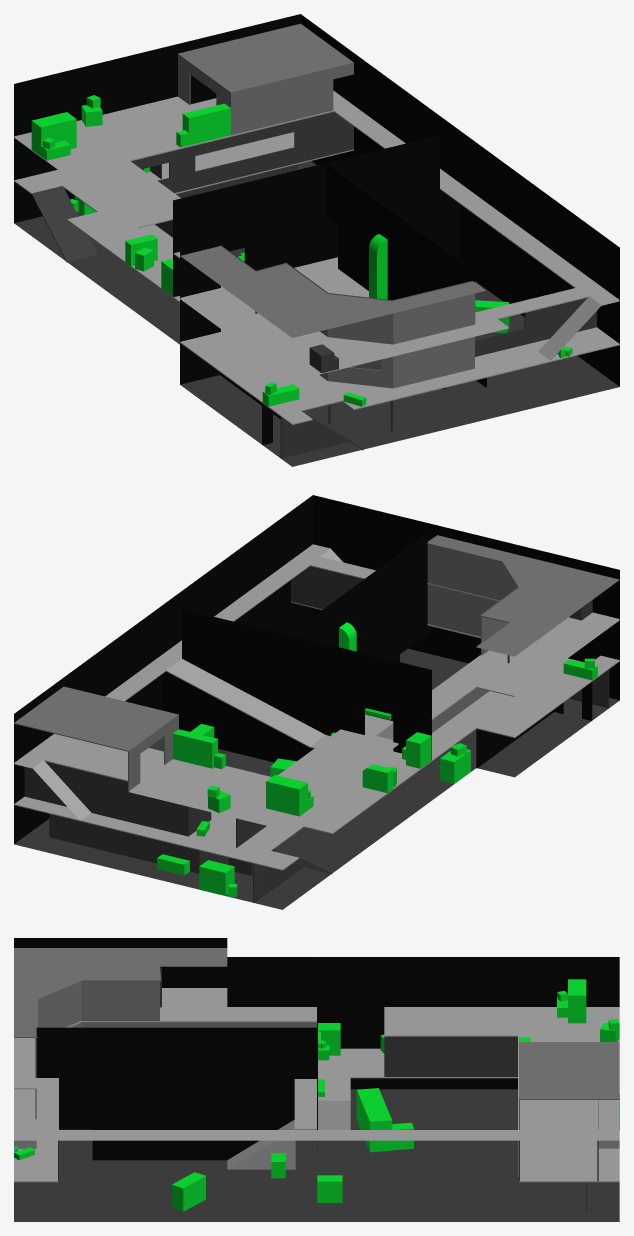
The model's file is map_arena.fbx.
The picture shows the model from 3 angles, top to bottom: view 1: azimuth 30°, elevation 25°; view 2: azimuth 150°, elevation 25°; view 3: azimuth 270°, elevation 25°; orthographic projection. The views are drawn at different scales.
Visible parts, largest first — view 1: mesh_map_area_Walls.001, mesh_map_area_Floor2.Building.Floor, mesh_map_area_Floor, mesh_map_area_Walls, mesh_map_area_Floor1.Building.Floor, mesh_map_area_Floor2.Building.Ceiling, mesh_map_area_Walls.002, mesh_map_area_Floor1.Building.Walls2.001, mesh_map_area_Floor2.Building.Ceiling2, mesh_map_area_Floor2.Building.Walls2, mesh_map_area_Floor2.Decor, mesh_map_area_Floor2.Building.Walls (+8 smaller); view 2: mesh_map_area_Floor2.Building.Floor, mesh_map_area_Walls.001, mesh_map_area_Walls, mesh_map_area_Floor, mesh_map_area_Floor1.Building.Floor, mesh_map_area_Walls.002, mesh_map_area_Floor2.Building.Ceiling, mesh_map_area_Floor2.Building.Ceiling2, mesh_map_area_Floor1.Building.Walls2.001, mesh_map_area_Parter.Walls, mesh_map_area_Floor2.Building.Walls, mesh_map_area_Floor2.Decor (+9 smaller); view 3: mesh_map_area_Floor, mesh_map_area_Walls.002, mesh_map_area_Walls.001, mesh_map_area_Floor2.Building.Floor, mesh_map_area_Floor1.Building.Floor, mesh_map_area_Floor2.Building.Ceiling, mesh_map_area_Floor2.Building.Ceiling2, mesh_map_area_Floor1.Building.Walls2, mesh_map_area_Floor2.Building.Walls, mesh_map_area_Parter.Decor, mesh_map_area_Parter.Building, mesh_map_area_Floor2.Decor (+2 smaller).
Boxes of the visible parts, x1,y1,x2,y2 form: mesh_map_area_Walls.001: (14, 14, 619, 386); mesh_map_area_Floor2.Building.Floor: (14, 90, 619, 380); mesh_map_area_Floor: (14, 161, 619, 466); mesh_map_area_Walls: (173, 135, 460, 444); mesh_map_area_Floor1.Building.Floor: (14, 132, 619, 424); mesh_map_area_Floor2.Building.Ceiling: (180, 245, 486, 337); mesh_map_area_Walls.002: (326, 163, 486, 389); mesh_map_area_Floor1.Building.Walls2.001: (131, 112, 353, 192); mesh_map_area_Floor2.Building.Ceiling2: (178, 23, 353, 93); mesh_map_area_Floor2.Building.Walls2: (178, 55, 353, 135); mesh_map_area_Floor2.Decor: (31, 95, 230, 160); mesh_map_area_Floor2.Building.Walls: (320, 293, 475, 344); mesh_map_area_Floor2.Building.Floor: (14, 544, 619, 829); mesh_map_area_Walls.001: (14, 495, 619, 843); mesh_map_area_Walls: (163, 609, 592, 768); mesh_map_area_Floor: (14, 648, 619, 909); mesh_map_area_Floor1.Building.Floor: (14, 601, 619, 870); mesh_map_area_Walls.002: (288, 533, 435, 661); mesh_map_area_Floor2.Building.Ceiling: (427, 534, 619, 656); mesh_map_area_Floor2.Building.Ceiling2: (14, 686, 178, 751); mesh_map_area_Floor1.Building.Walls2.001: (24, 761, 211, 836); mesh_map_area_Parter.Walls: (49, 814, 252, 875); mesh_map_area_Floor2.Building.Walls: (427, 544, 517, 655); mesh_map_area_Floor2.Decor: (173, 729, 313, 816); mesh_map_area_Floor: (14, 1089, 619, 1221); mesh_map_area_Walls.002: (36, 1027, 316, 1160); mesh_map_area_Walls.001: (14, 938, 619, 1089); mesh_map_area_Floor2.Building.Floor: (14, 988, 619, 1148); mesh_map_area_Floor1.Building.Floor: (14, 1048, 619, 1182); mesh_map_area_Floor2.Building.Ceiling: (14, 948, 227, 1037); mesh_map_area_Floor2.Building.Ceiling2: (519, 1042, 619, 1099); mesh_map_area_Floor1.Building.Walls2: (384, 1036, 517, 1076); mesh_map_area_Floor2.Building.Walls: (35, 981, 159, 1077); mesh_map_area_Parter.Decor: (171, 1088, 413, 1211); mesh_map_area_Parter.Building: (227, 1081, 316, 1169); mesh_map_area_Floor2.Decor: (519, 979, 619, 1041).
Bounding box in the file's own units: 32.01 × 13.08 × 54.02.
